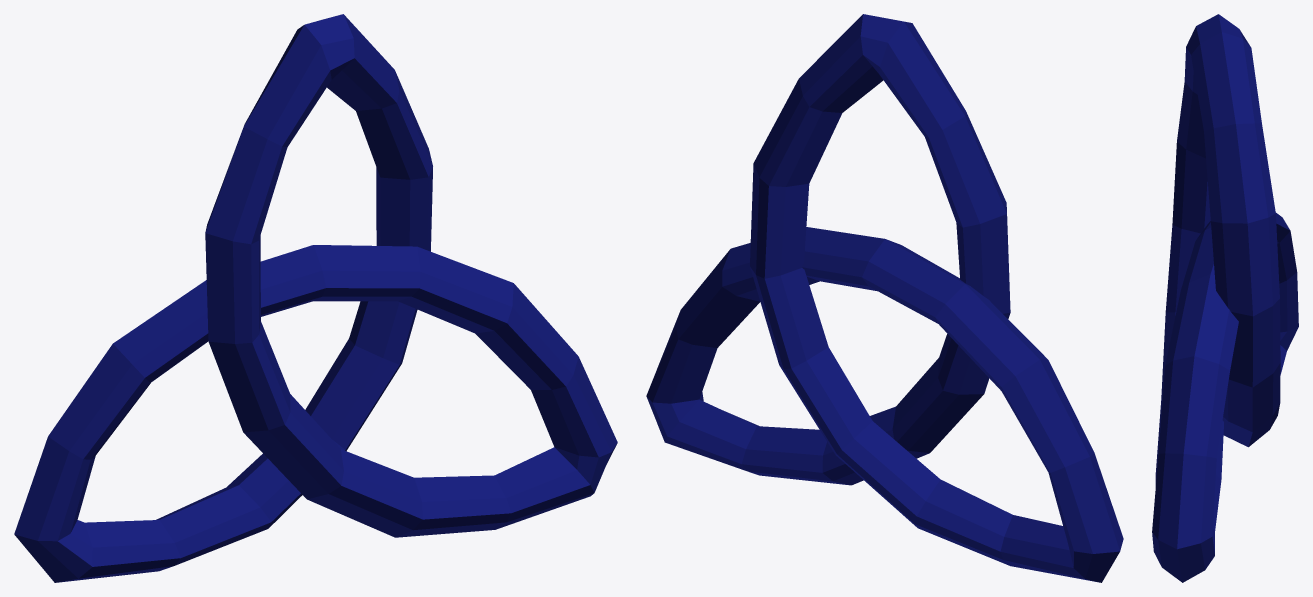
The model's file is Triquetra.obj.
3 views of the same model, side by side, from view 1: azimuth 30°, elevation 25°; view 2: azimuth 150°, elevation 25°; view 3: azimuth 270°, elevation 25° (orthographic). The views are drawn at different scales.
Parts seen in each view (by area): view 1: Circle_Circle.001; view 2: Circle_Circle.001; view 3: Circle_Circle.001.
Boxes of the visible parts, x1,y1,x2,y2 form: Circle_Circle.001: (14, 14, 617, 582); Circle_Circle.001: (646, 14, 1123, 582); Circle_Circle.001: (1152, 14, 1298, 582).
Size of the model in its own units: 7.14 by 6.63 by 1.9.
